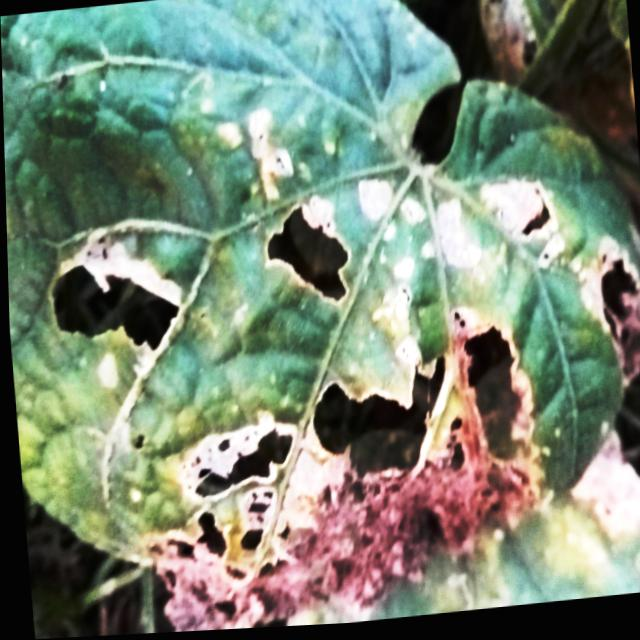Anthracnose: (143, 292, 549, 632), (40, 241, 192, 366), (254, 188, 362, 317), (591, 242, 640, 357), (510, 173, 563, 246)
